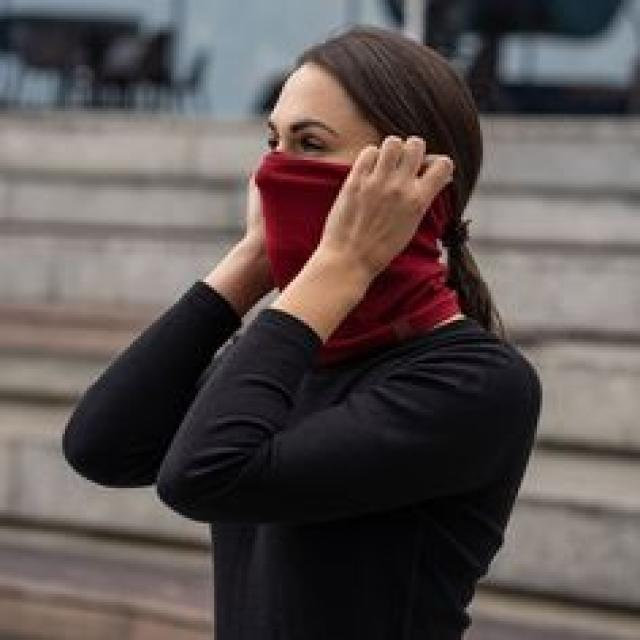8_ropa_rostro: (251, 145, 457, 305)
